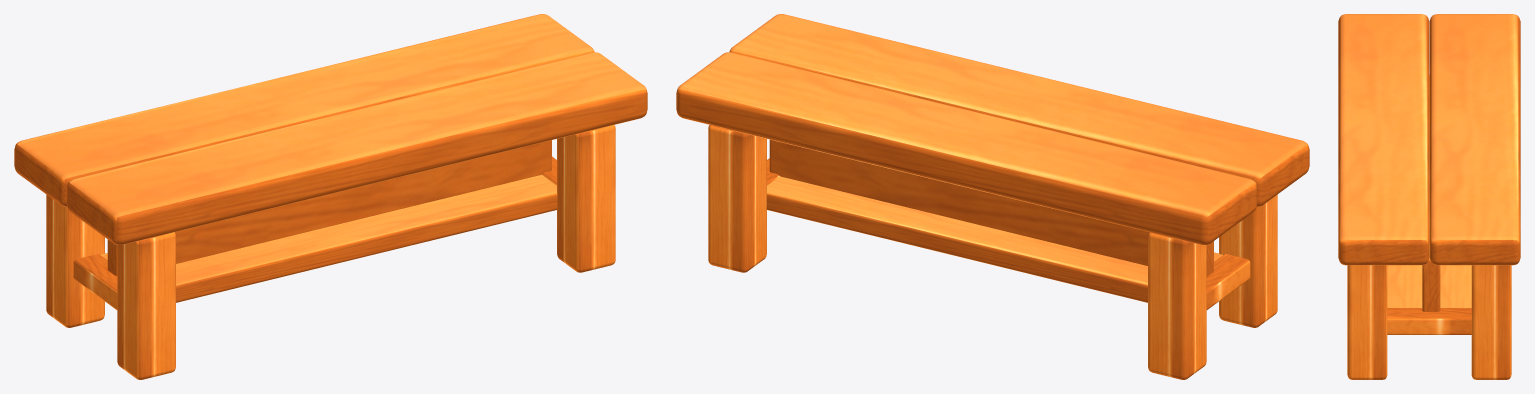
The model's file is self_service_counter.glb.
The picture shows the model from 3 angles, left to right: view 1: azimuth 30°, elevation 25°; view 2: azimuth 150°, elevation 25°; view 3: azimuth 270°, elevation 25°; orthographic projection. The views are drawn at different scales.
Visible parts, largest first — view 1: SelfServiceCounter; view 2: SelfServiceCounter; view 3: SelfServiceCounter.
Boxes of the visible parts, left/top/right/bottom form: SelfServiceCounter: left=14, top=14, right=647, bottom=379; SelfServiceCounter: left=676, top=14, right=1309, bottom=379; SelfServiceCounter: left=1338, top=14, right=1520, bottom=379.
Size of the model in its own units: 3.43 by 1.09 by 1.16.
Materials: 1 (1 with a texture image).
